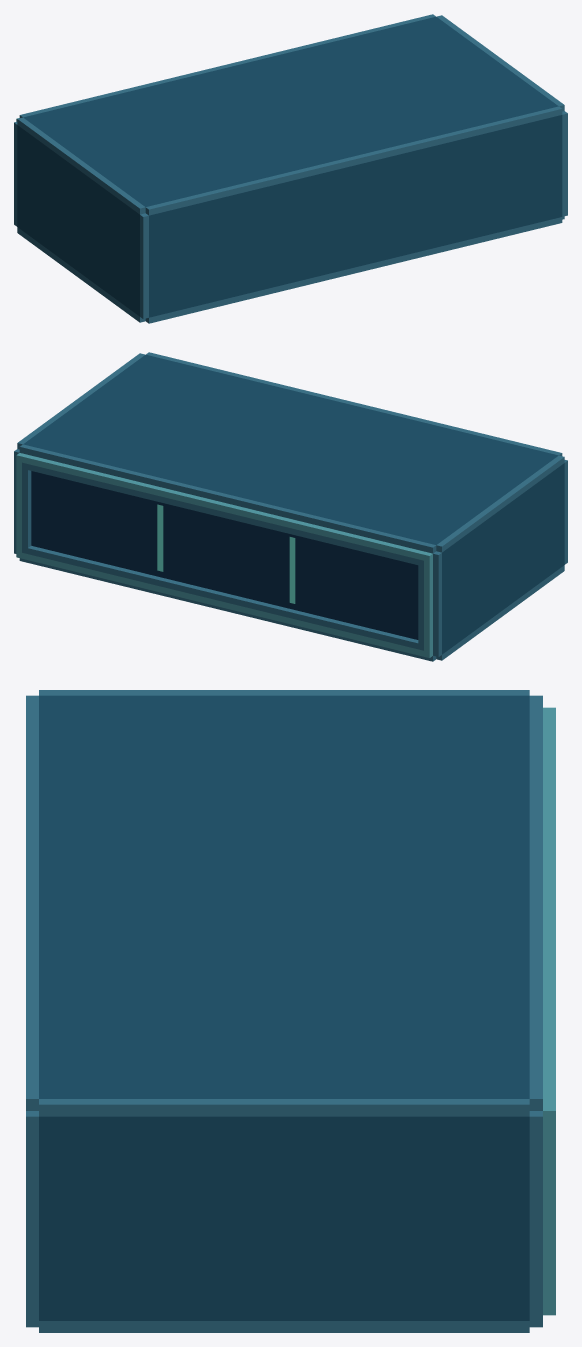
Rendered from DigitalClock1.fbx.
The picture shows the model from 3 angles, top to bottom: view 1: azimuth 30°, elevation 25°; view 2: azimuth 150°, elevation 25°; view 3: azimuth 270°, elevation 25°; orthographic projection. The views are drawn at different scales.
Parts seen in each view (by area): view 1: Cagonto-3; view 2: Cagonto-3; view 3: Cagonto-3.
Boxes of the visible parts, x1=… form: Cagonto-3: x1=14, y1=14, x2=567, y2=323; Cagonto-3: x1=14, y1=352, x2=567, y2=661; Cagonto-3: x1=26, y1=690, x2=555, y2=1332.
Size of the model in its own units: 7400 by 1900 by 4000.
